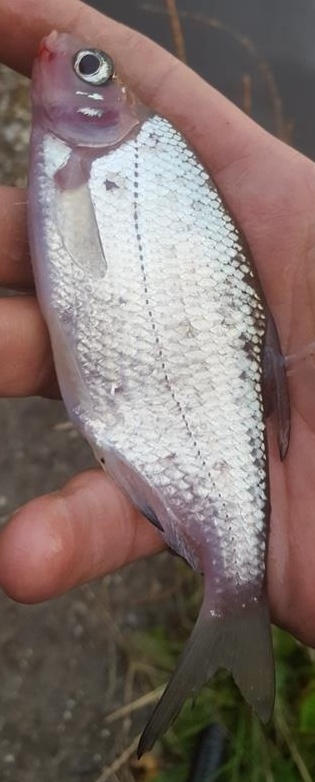Blicca bjoerkna: (20, 20, 295, 762)
